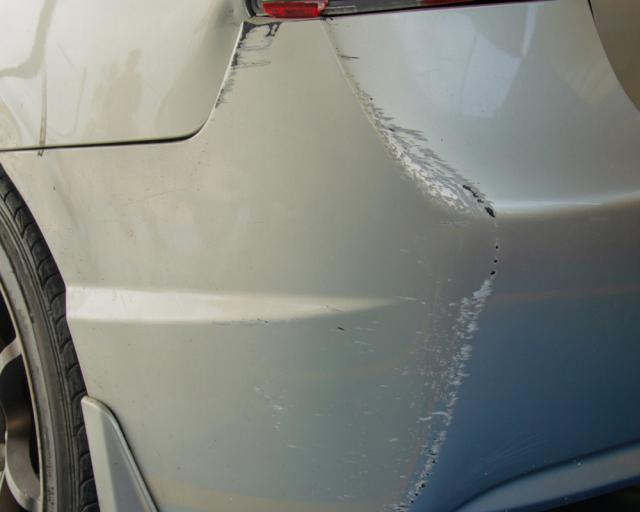scratch: (259, 55, 504, 512), (216, 21, 282, 109)
